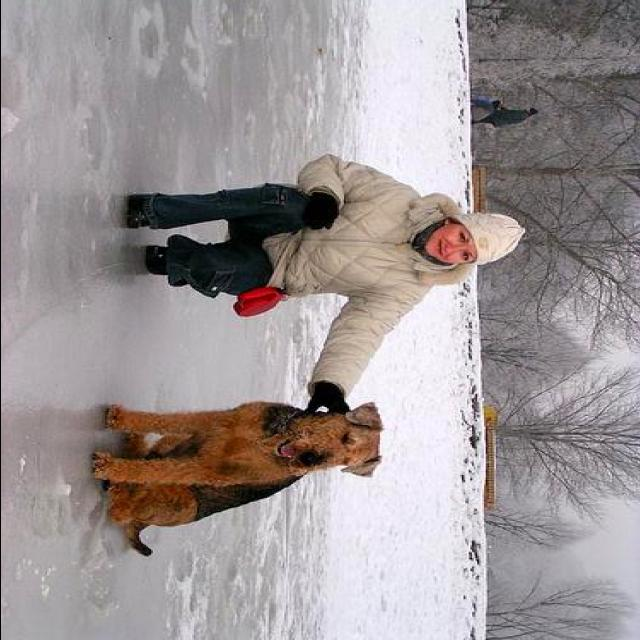airedale: (84, 399, 388, 561)
